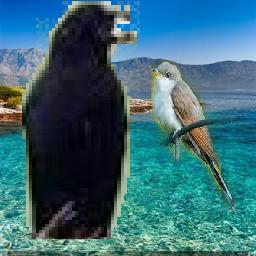Crow: (22, 1, 142, 239)
Cuckoo: (152, 60, 239, 216)
